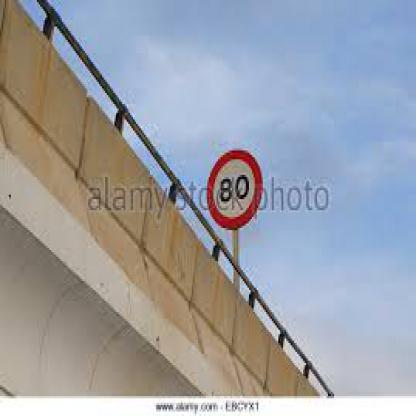Speed Limit 80: (209, 154, 259, 224)
